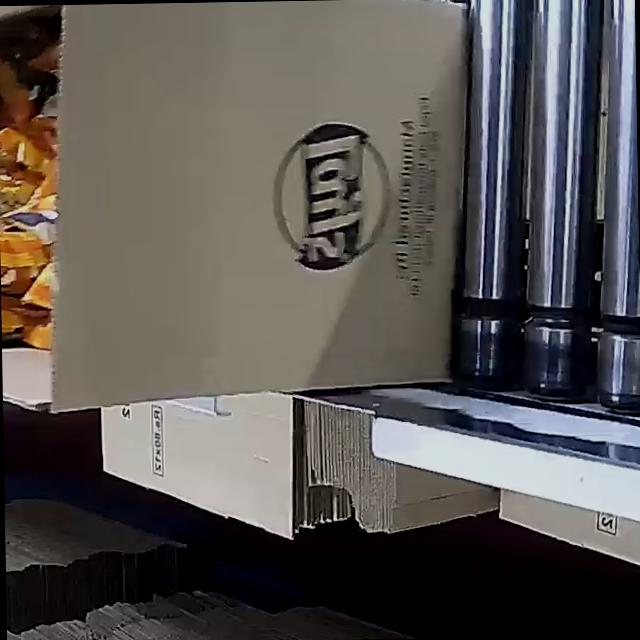cheese: (0, 31, 65, 360)
